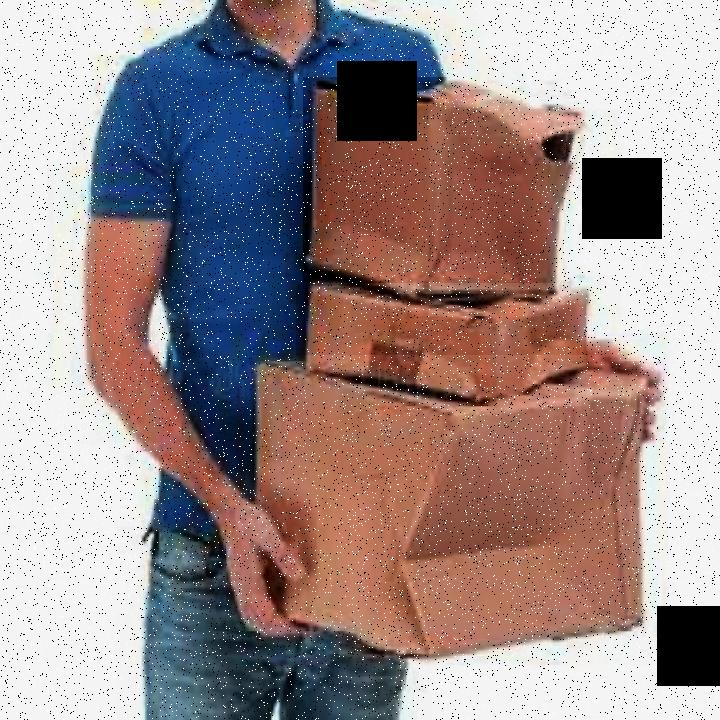box: (252, 355, 650, 654), (303, 78, 585, 302), (296, 284, 602, 400)
